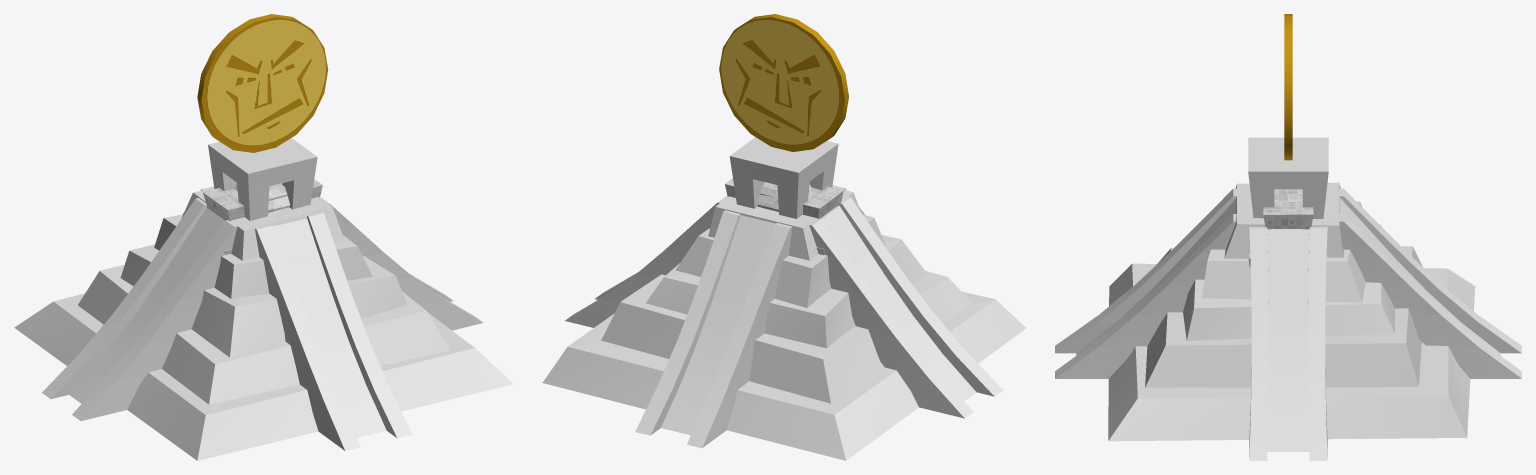
The model's file is Environment.FBX.
3 views of the same model, side by side, from view 1: azimuth 30°, elevation 25°; view 2: azimuth 150°, elevation 25°; view 3: azimuth 270°, elevation 25° (orthographic).
Visible parts, largest first — view 1: MainTemple, God, MainTempleStairs, Temple02; view 2: MainTemple, God, MainTempleStairs, Temple02, Temple01; view 3: MainTemple, MainTempleStairs, God, Temple02.
Boxes of the visible parts, bbox=[...] form: MainTemple: bbox=[14, 138, 513, 460]; God: bbox=[197, 14, 328, 152]; MainTempleStairs: bbox=[69, 207, 386, 437]; Temple02: bbox=[203, 179, 341, 255]; MainTemple: bbox=[542, 137, 1026, 460]; God: bbox=[719, 14, 848, 151]; MainTempleStairs: bbox=[661, 206, 976, 435]; Temple02: bbox=[725, 178, 843, 255]; Temple01: bbox=[757, 182, 811, 211]; MainTemple: bbox=[1055, 137, 1521, 460]; MainTempleStairs: bbox=[1076, 197, 1500, 451]; God: bbox=[1284, 14, 1292, 160]; Temple02: bbox=[1248, 201, 1313, 267].
Bounding box in the file's own units: 2684 × 2570 × 2684.
